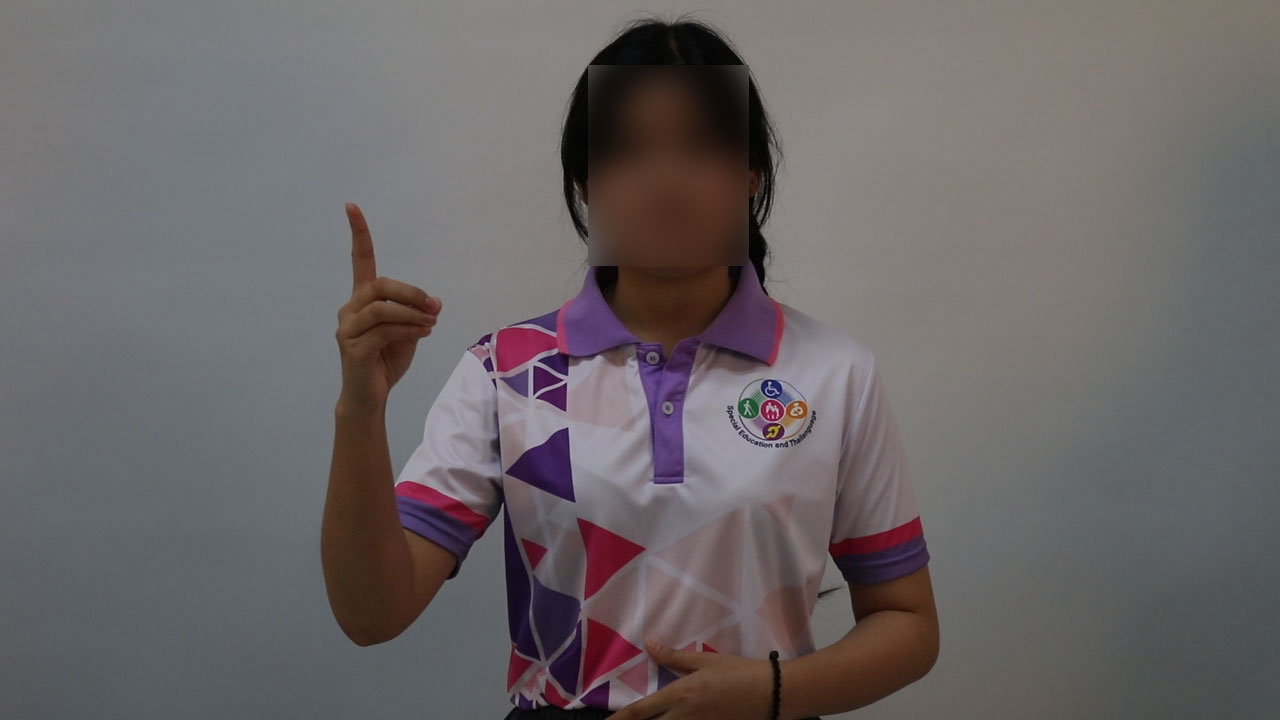dor: (326, 195, 451, 414)
